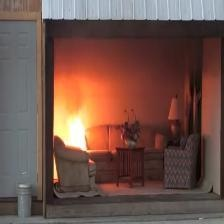fire: (55, 85, 93, 128)
